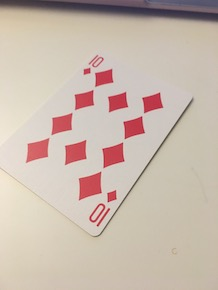TenOfDiamonds: (1, 45, 195, 238)
